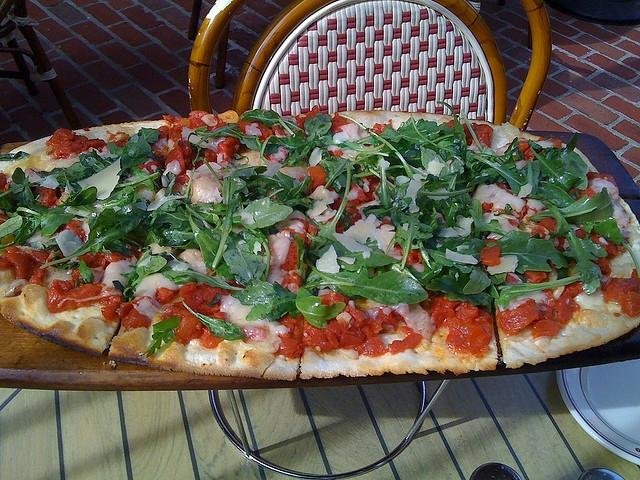tomato: (45, 267, 124, 321), (0, 246, 50, 286), (496, 298, 540, 336), (576, 228, 618, 259), (280, 228, 308, 272), (428, 296, 462, 329), (238, 114, 275, 142), (388, 326, 423, 354), (176, 316, 207, 345), (121, 307, 151, 332), (394, 241, 424, 266), (318, 292, 352, 314), (462, 123, 493, 147), (164, 146, 187, 176), (202, 284, 238, 302), (531, 319, 563, 339), (61, 219, 88, 242), (277, 338, 307, 358), (288, 218, 320, 236), (33, 188, 59, 208), (586, 172, 618, 188), (308, 166, 327, 192), (340, 329, 366, 348), (621, 292, 640, 317), (480, 245, 501, 266), (330, 112, 350, 133), (107, 130, 130, 147), (349, 182, 369, 201), (178, 282, 197, 300), (54, 142, 72, 160), (322, 330, 340, 348), (350, 308, 366, 328), (156, 287, 174, 304), (217, 141, 234, 159), (524, 270, 546, 283), (168, 125, 182, 145), (105, 252, 127, 264), (361, 325, 378, 339), (368, 176, 381, 194), (539, 218, 553, 232), (371, 123, 387, 135), (522, 148, 536, 161), (346, 198, 364, 208), (190, 118, 207, 128), (306, 106, 320, 118), (549, 138, 562, 149), (5, 181, 13, 191)
